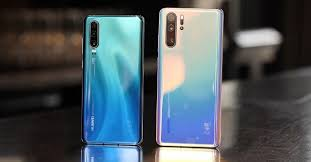huawei: (154, 7, 225, 147), (80, 15, 146, 150)
